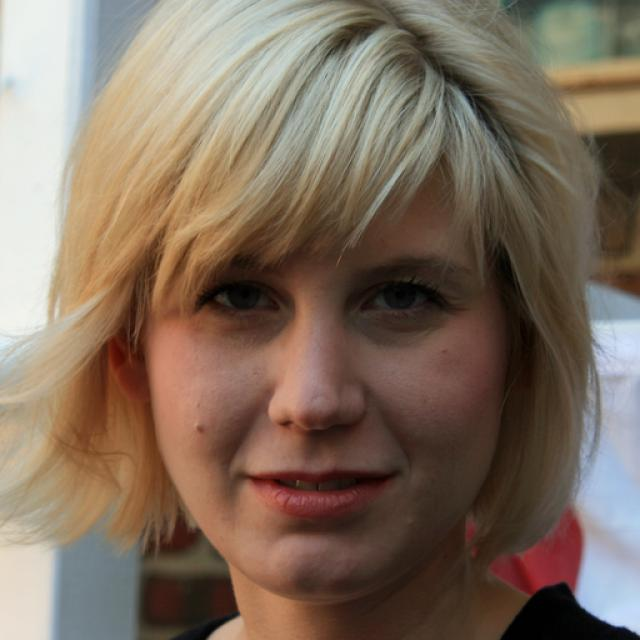Acne: (190, 414, 210, 443), (432, 346, 459, 364)
Dark Circle: (346, 312, 443, 344), (202, 310, 291, 341)
